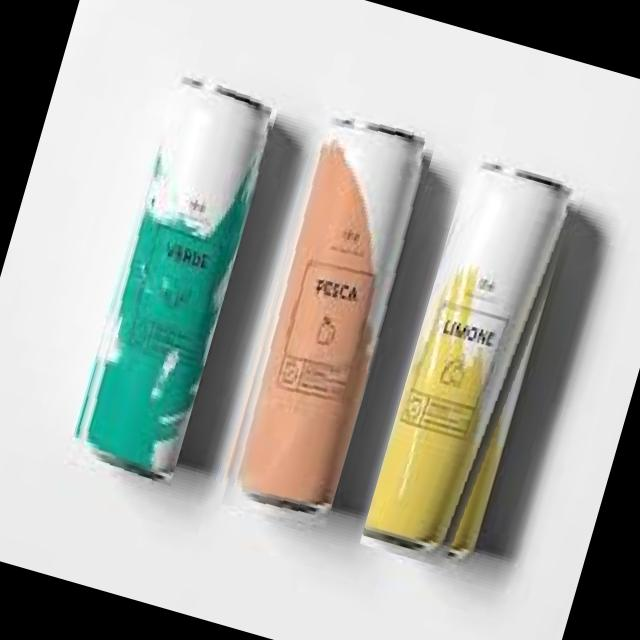Cans: (359, 144, 590, 577), (209, 101, 438, 534), (60, 52, 285, 486)
